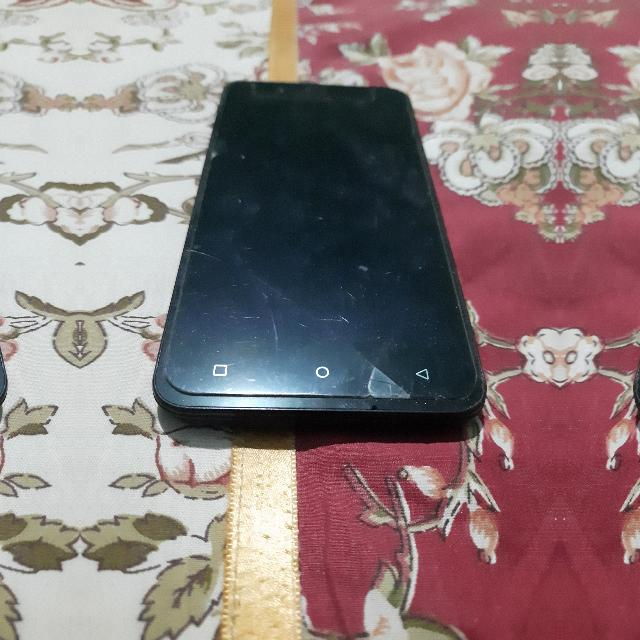phone_screen: (165, 84, 476, 398)
